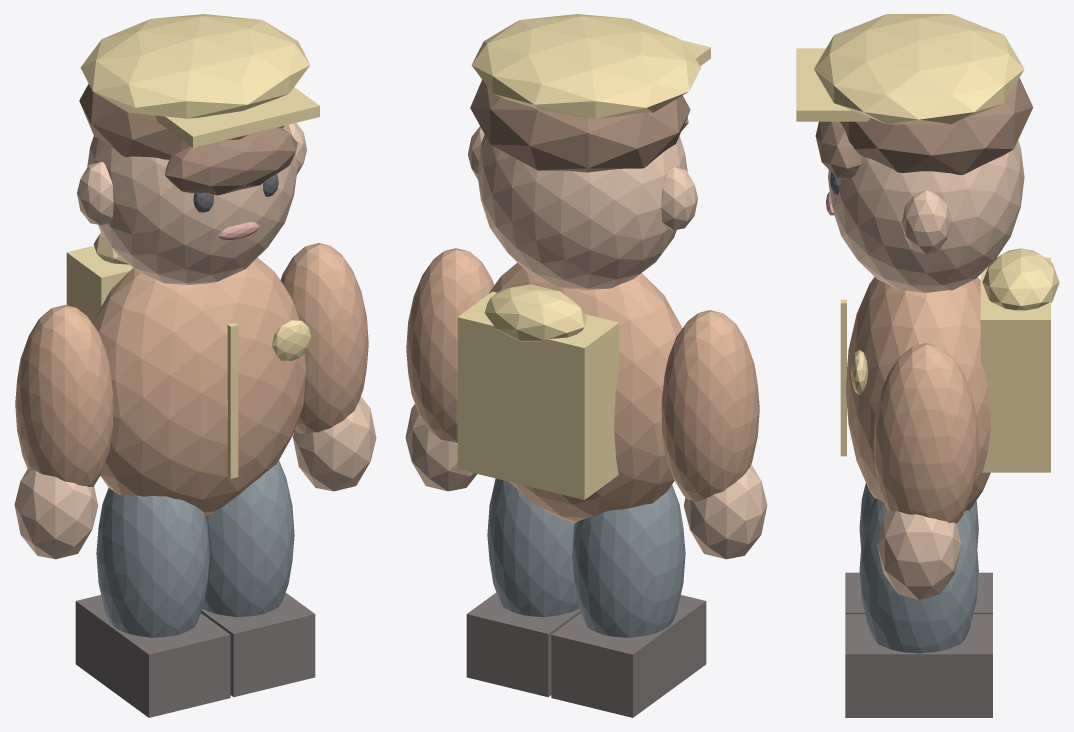
The model's file is witness_06.glb.
The picture shows the model from 3 angles, left to right: view 1: azimuth 30°, elevation 25°; view 2: azimuth 150°, elevation 25°; view 3: azimuth 270°, elevation 25°; orthographic projection.
Parts seen in each view (by area): view 1: torso, cap_crown, head, left_upper_arm, left_leg, left_boot, right_upper_arm, right_leg, right_boot, hair_fringe, left_hand, right_hand (+6 smaller); view 2: backpack, head, cap_crown, torso, left_upper_arm, left_leg, left_boot, hair_cap, right_upper_arm, right_leg, right_boot, left_hand (+3 smaller); view 3: cap_crown, head, right_upper_arm, torso, right_boot, backpack, right_leg, hair_cap, right_hand, backpack_roll, cap_brim, right_ear (+5 smaller).
Part boxes in pixels (x1,y1,x2,y2): torso: (92, 257, 306, 515); cap_crown: (80, 14, 310, 118); head: (87, 124, 297, 284); left_upper_arm: (15, 305, 113, 486); left_leg: (96, 488, 209, 637); left_boot: (75, 595, 230, 717); right_upper_arm: (280, 243, 368, 433); right_leg: (202, 461, 294, 617); right_boot: (201, 592, 315, 697); hair_fringe: (165, 127, 297, 195); left_hand: (14, 469, 98, 559); right_hand: (292, 396, 376, 491); backpack: (457, 291, 619, 499); head: (477, 135, 687, 290); cap_crown: (471, 14, 701, 118); torso: (489, 262, 682, 522); left_upper_arm: (661, 310, 759, 501); left_leg: (572, 484, 685, 637); left_boot: (551, 595, 706, 717); hair_cap: (470, 80, 690, 172); right_upper_arm: (406, 248, 494, 442); right_leg: (487, 478, 579, 617); right_boot: (466, 592, 580, 697); left_hand: (683, 464, 767, 559); cap_crown: (814, 14, 1024, 124); head: (828, 140, 1024, 292); right_upper_arm: (873, 343, 978, 523); torso: (846, 277, 990, 510); right_boot: (845, 614, 992, 717); backpack: (980, 257, 1050, 472); right_leg: (859, 498, 978, 653); hair_cap: (840, 78, 1033, 175); right_hand: (877, 510, 961, 600); backpack_roll: (982, 248, 1059, 310); cap_brim: (796, 48, 870, 121); right_ear: (901, 190, 950, 254).
Bounding box in the file's own units: 1.16 × 2 × 0.75.
